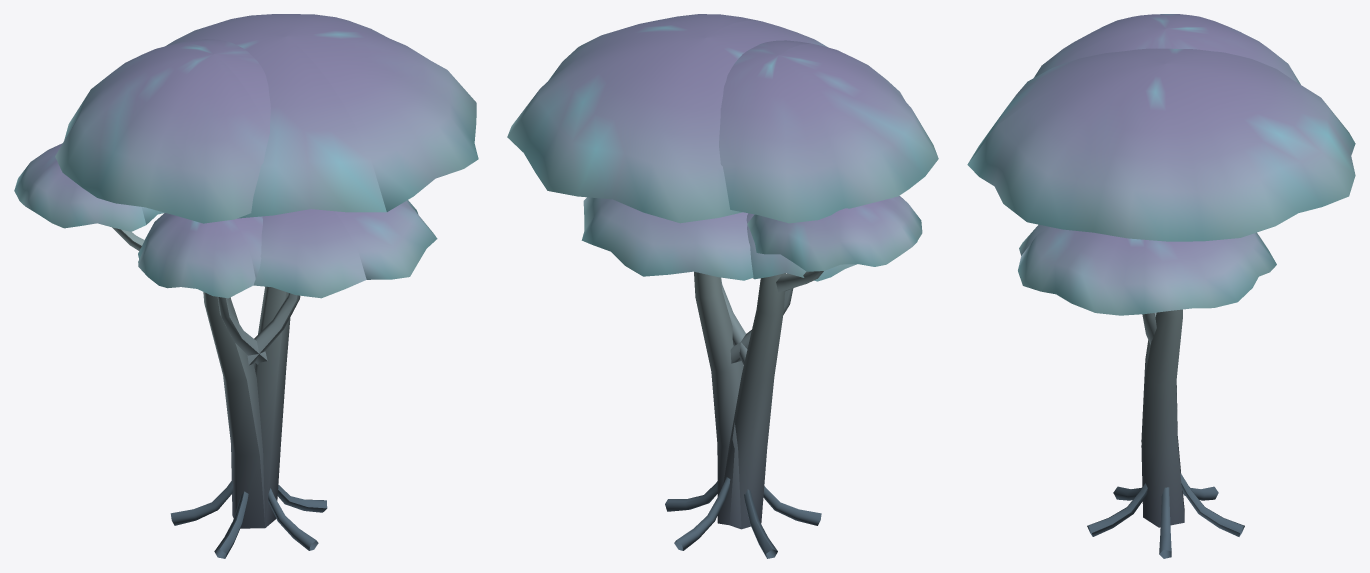
The model's file is alien-spore.glb.
3 renders of one model, left to right at view 1: azimuth 30°, elevation 25°; view 2: azimuth 150°, elevation 25°; view 3: azimuth 270°, elevation 25°, orthographic.
Parts seen in each view (by area): view 1: spore-1, spore-0; view 2: spore-1, spore-0; view 3: spore-0, spore-1.
Boxes of the visible parts, <box> form: spore-1: <box>14,39,437,528</box>; spore-0: <box>138,14,478,558</box>; spore-1: <box>581,40,938,529</box>; spore-0: <box>507,14,856,558</box>; spore-0: <box>967,48,1355,558</box>; spore-1: <box>1018,14,1300,519</box>.
Size of the model in its own units: 0.8747 by 1 by 0.7358.
